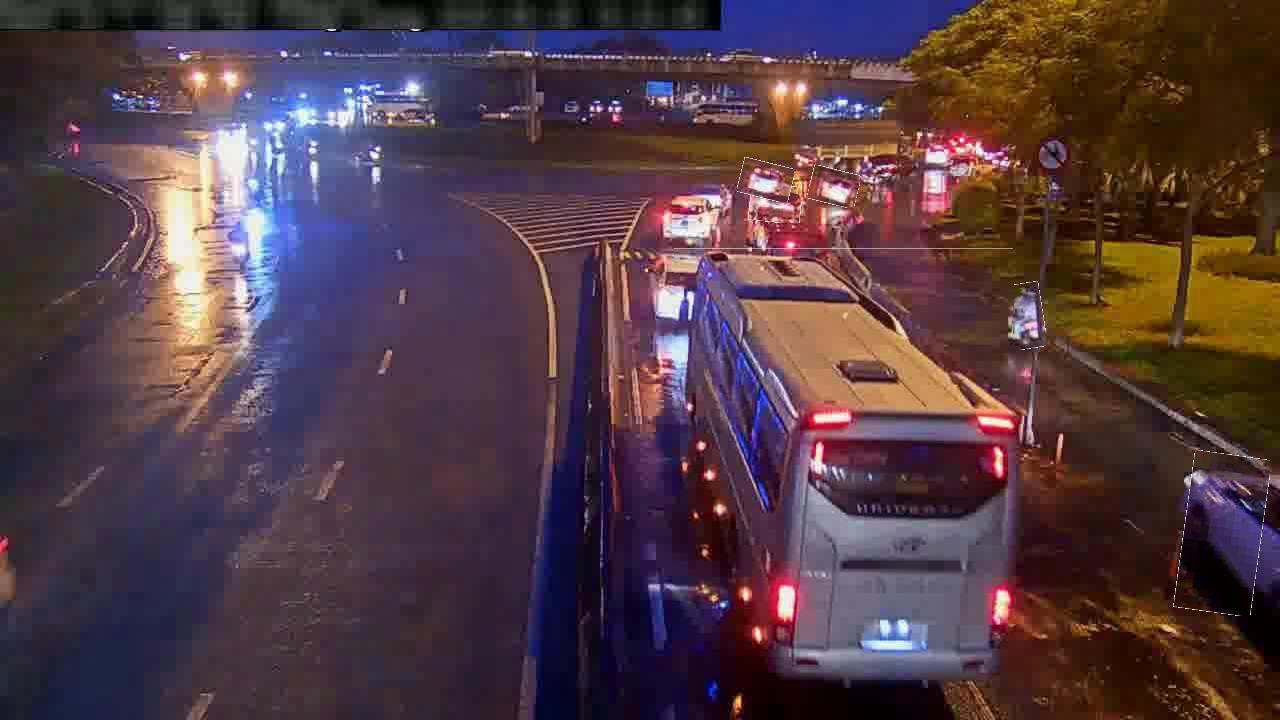14: (674, 248, 1014, 681)
container: (1179, 453, 1266, 615), (738, 160, 794, 201), (749, 184, 802, 223), (808, 168, 860, 207)
motorbike: (1000, 283, 1045, 350)
